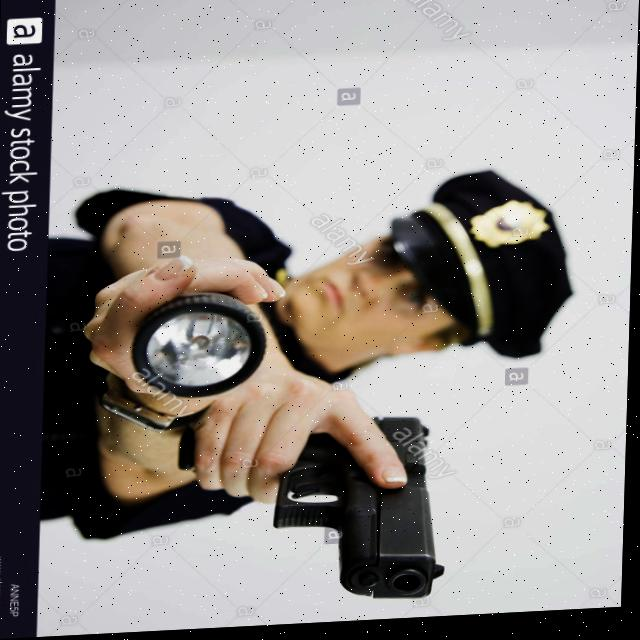pistol: (271, 417, 453, 610)
